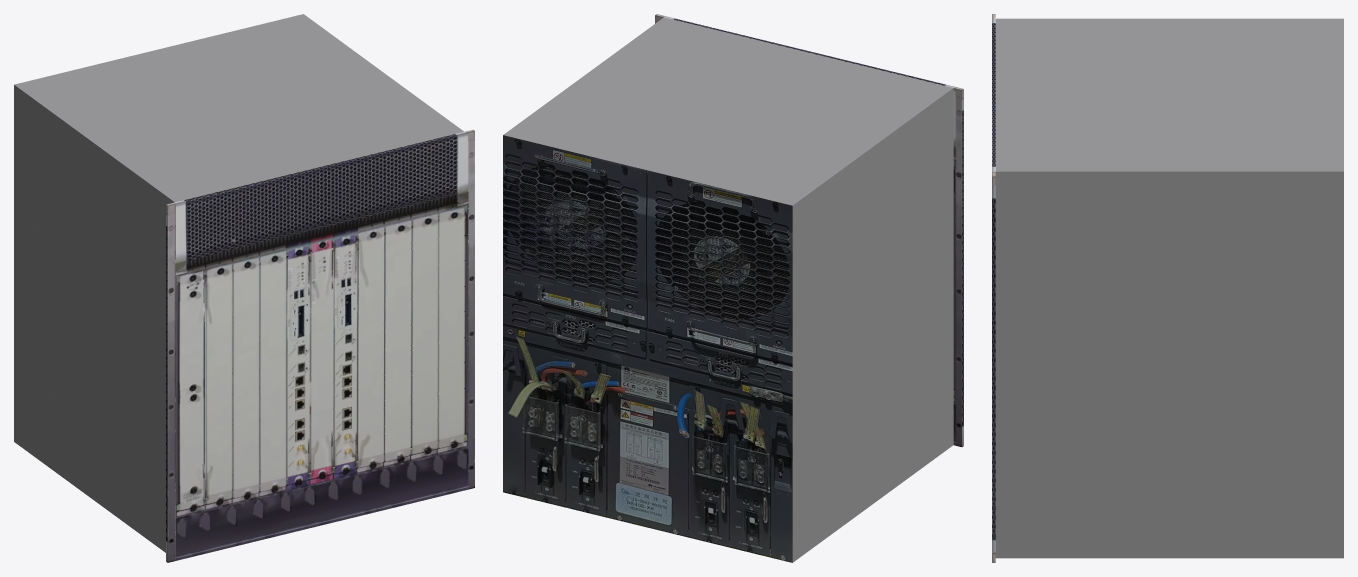
The picture shows the model from 3 angles, left to right: view 1: azimuth 30°, elevation 25°; view 2: azimuth 150°, elevation 25°; view 3: azimuth 270°, elevation 25°; orthographic projection. The views are drawn at different scales.
Parts seen in each view (by area): view 1: NE40E-X8 (1); view 2: NE40E-X8 (1); view 3: NE40E-X8 (1).
Boxes of the visible parts, bbox=[...] form: NE40E-X8 (1): bbox=[14, 14, 474, 562]; NE40E-X8 (1): bbox=[503, 14, 963, 562]; NE40E-X8 (1): bbox=[992, 14, 1343, 562].
Size of the model in its own units: 0.56 by 0.6223 by 0.513.
Materials: 3 (2 with a texture image).
